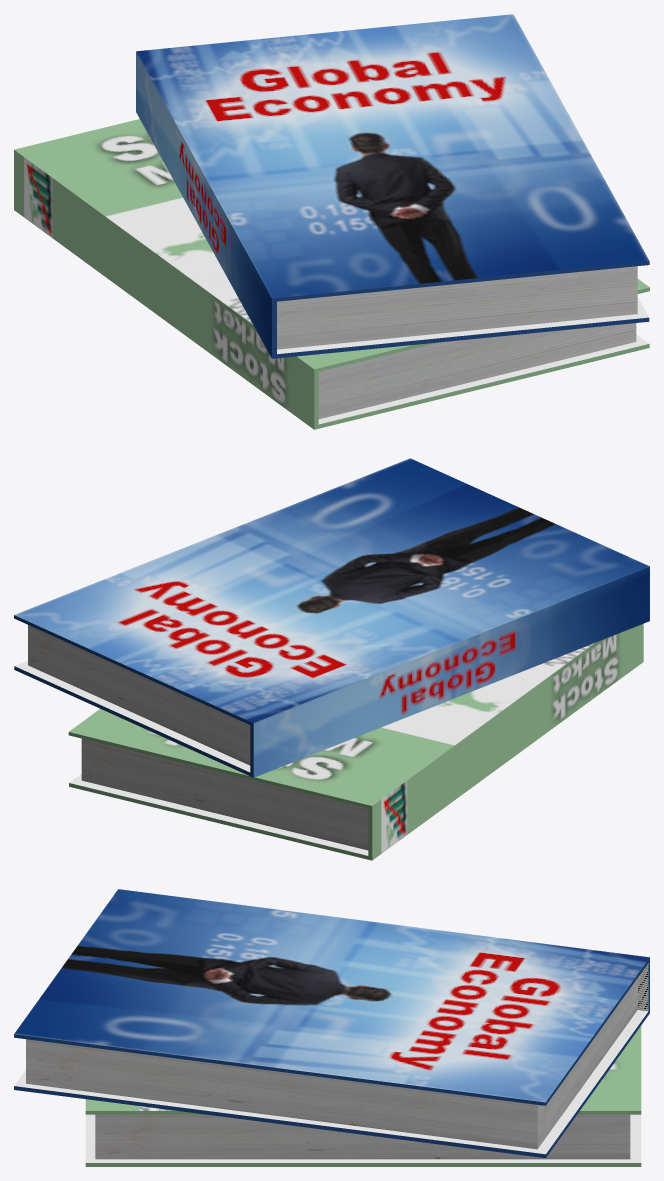
Rendered from Books 3.FBX.
The picture shows the model from 3 angles, top to bottom: view 1: azimuth 30°, elevation 25°; view 2: azimuth 150°, elevation 25°; view 3: azimuth 270°, elevation 25°; orthographic projection. The views are drawn at different scales.
Visible parts, largest first — view 1: Books 3; view 2: Books 3; view 3: Books 3.
Boxes of the visible parts, <box> form: Books 3: <box>14,14,649,429</box>; Books 3: <box>14,458,649,860</box>; Books 3: <box>14,889,649,1166</box>.
Bounding box in the file's own units: 23.76 × 5.98 × 29.94.
Materials: 1 (1 with a texture image).
